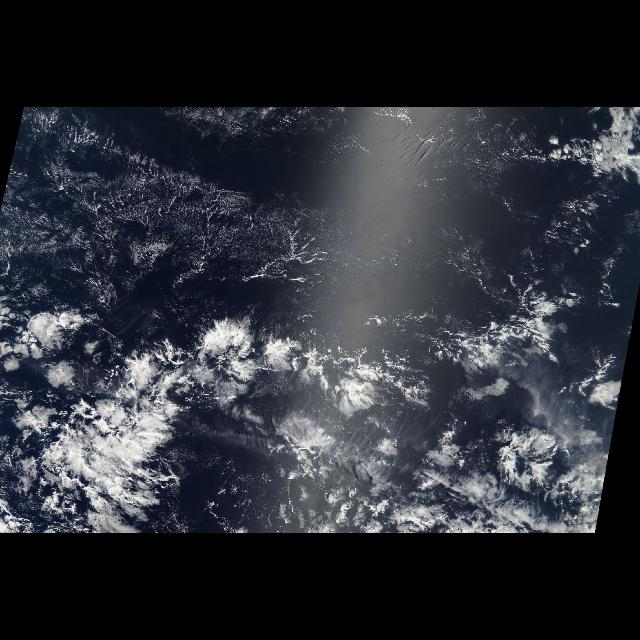Fish: (1, 278, 592, 534)
Sugar: (0, 114, 506, 314)
